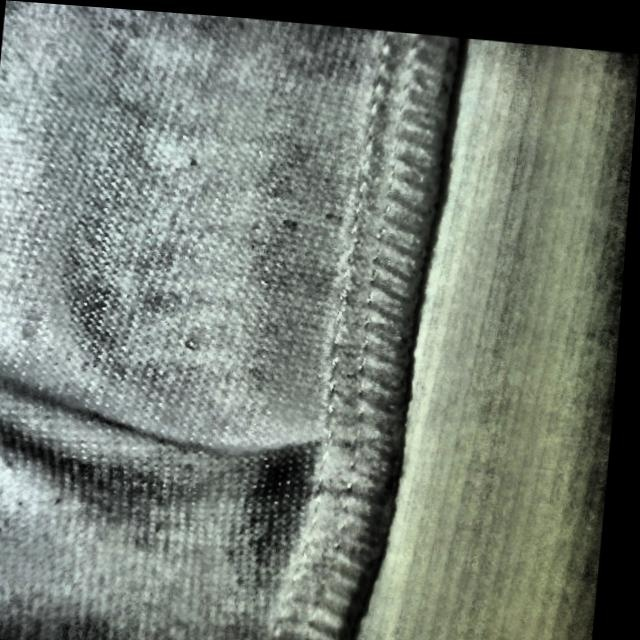seam: (65, 362, 416, 557)
